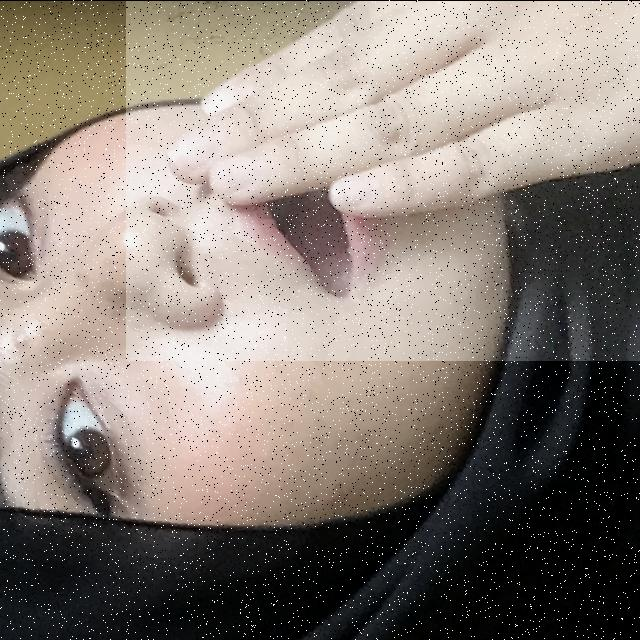ngantuk: (126, 0, 640, 360)
